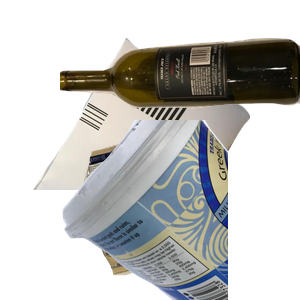glass: (60, 36, 300, 147)
paper: (31, 35, 271, 215)
plastic: (60, 120, 300, 300)
trash: (81, 137, 280, 300)
